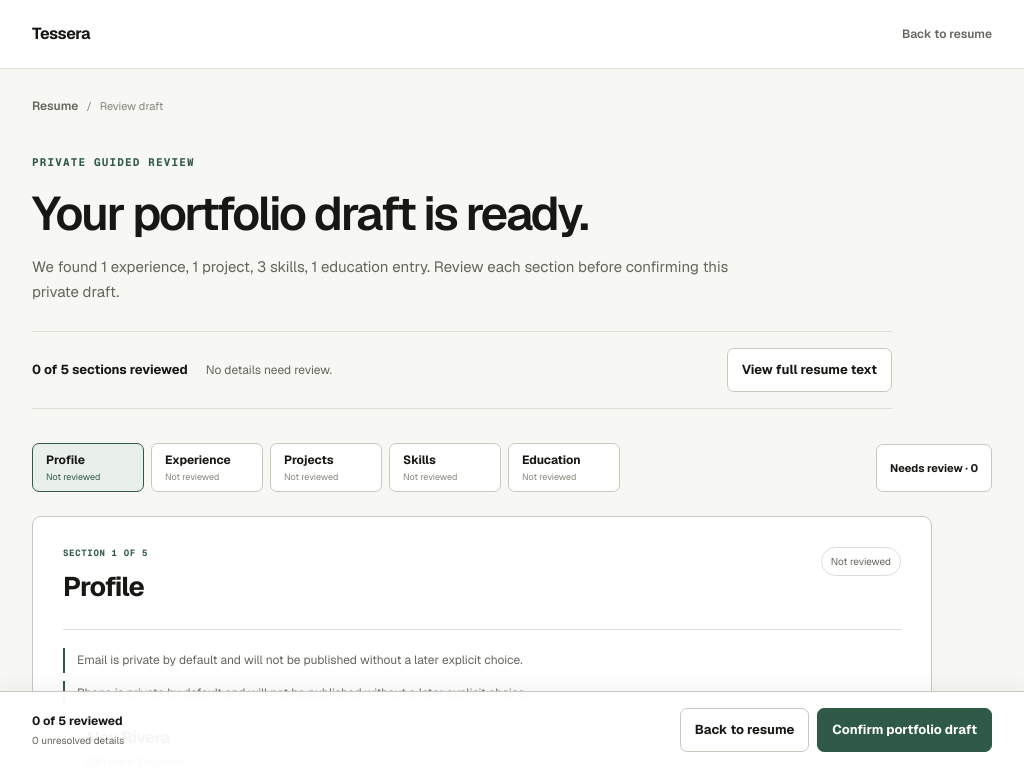
Test: resume guided review › recovers valid tab state without exposing a builder handoff
Expected: the heading "Your portfolio draft is ready." is shown, [32,183,587,244]
Expected: the text "1 experience, 1 project, 3 skills, 1 education entry" is shown, [101,257,427,276]
Click the button "Experience Not reviewed" at (207, 467), box [151,442,263,492]
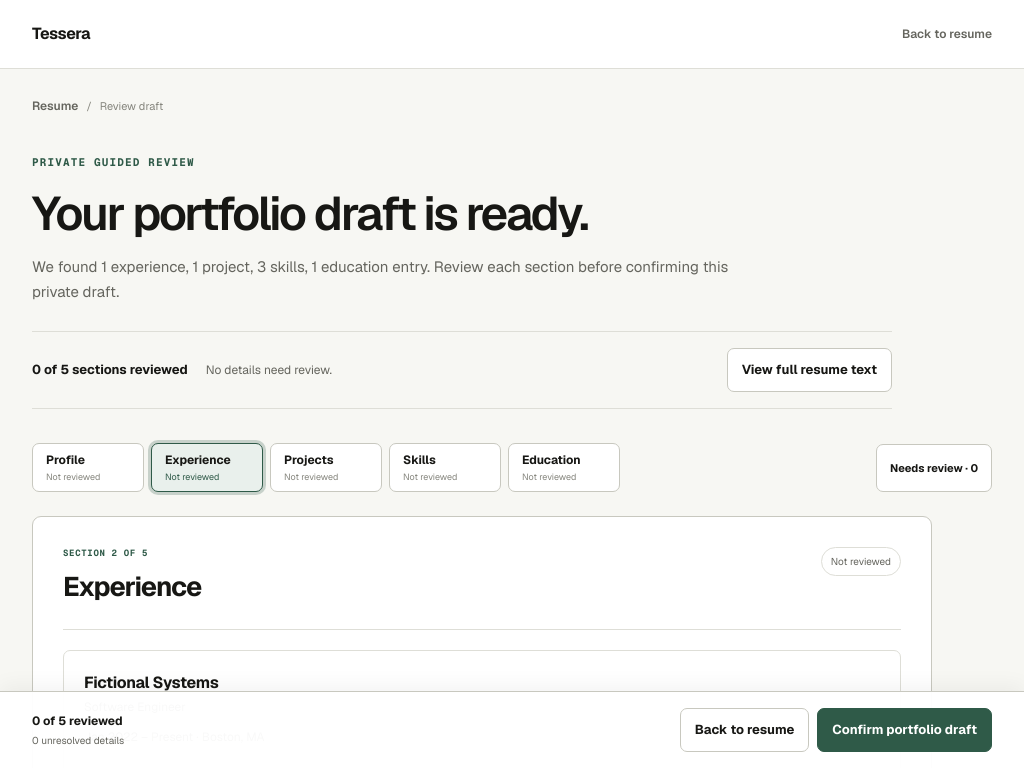
Expected: the heading "Experience" is shown, [63,566,201,607]
